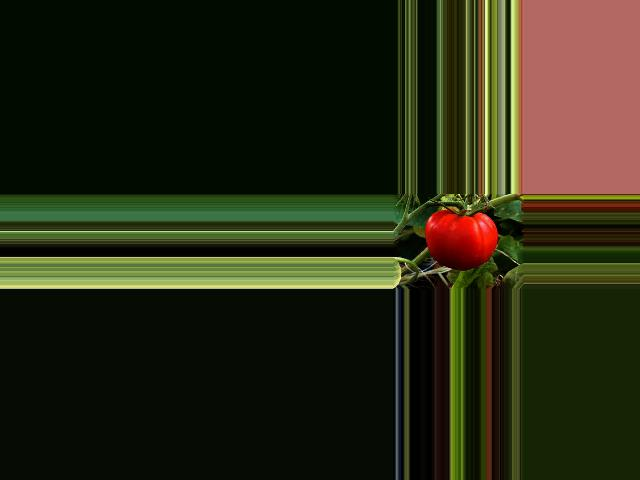tomato: (424, 210, 497, 270)
